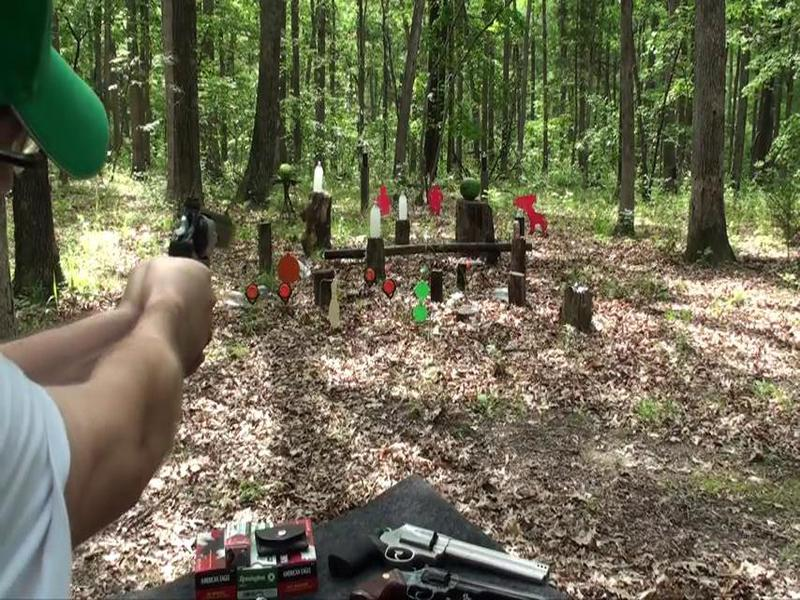Revolver: (147, 183, 253, 304)
